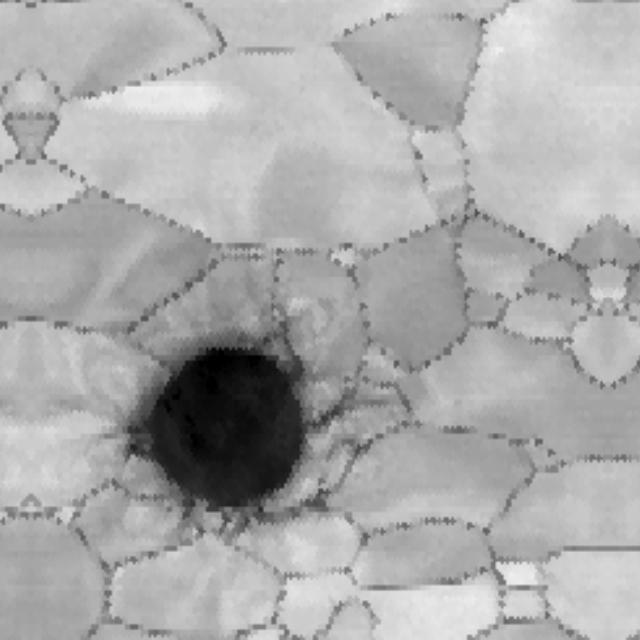good_void: (132, 334, 352, 527), (338, 237, 363, 254)
